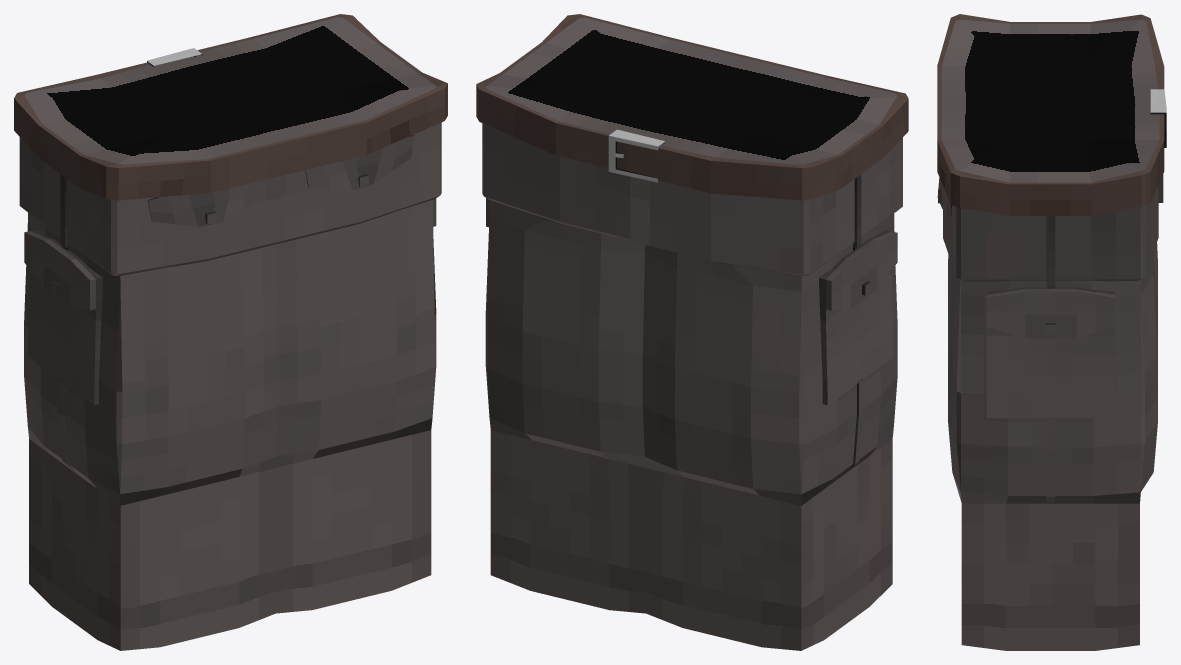
The picture shows the model from 3 angles, left to right: view 1: azimuth 30°, elevation 25°; view 2: azimuth 150°, elevation 25°; view 3: azimuth 270°, elevation 25°; orthographic projection. The views are drawn at different scales.
Visible parts, largest first — view 1: left_leg, body, right_leg; view 2: left_leg, body, right_leg; view 3: right_leg, body, left_leg.
Boxes of the visible parts, <box> form: left_leg: <box>24,212,279,650</box>; body: <box>14,14,447,275</box>; right_leg: <box>272,198,436,613</box>; left_leg: <box>642,213,897,650</box>; body: <box>476,14,908,275</box>; right_leg: <box>485,198,648,613</box>; right_leg: <box>948,251,1157,650</box>; body: <box>937,14,1166,285</box>; left_leg: <box>948,243,1157,330</box>.
Bounding box in the file's own units: 0.5791 × 0.7757 × 0.3349.
Materials: 1 (1 with a texture image).
